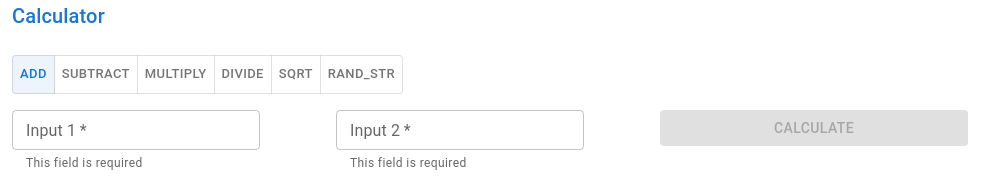
Test: Calculator component › Selected operation displays the proper number of inputs (RAND_STR)
Click the button "RAND_STR" at (361, 74), box [320,55,403,94]
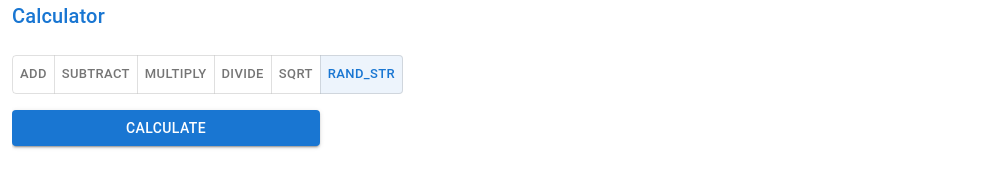
Check: the button with test id "calculate-btn" is enabled, box [12,110,320,146]
